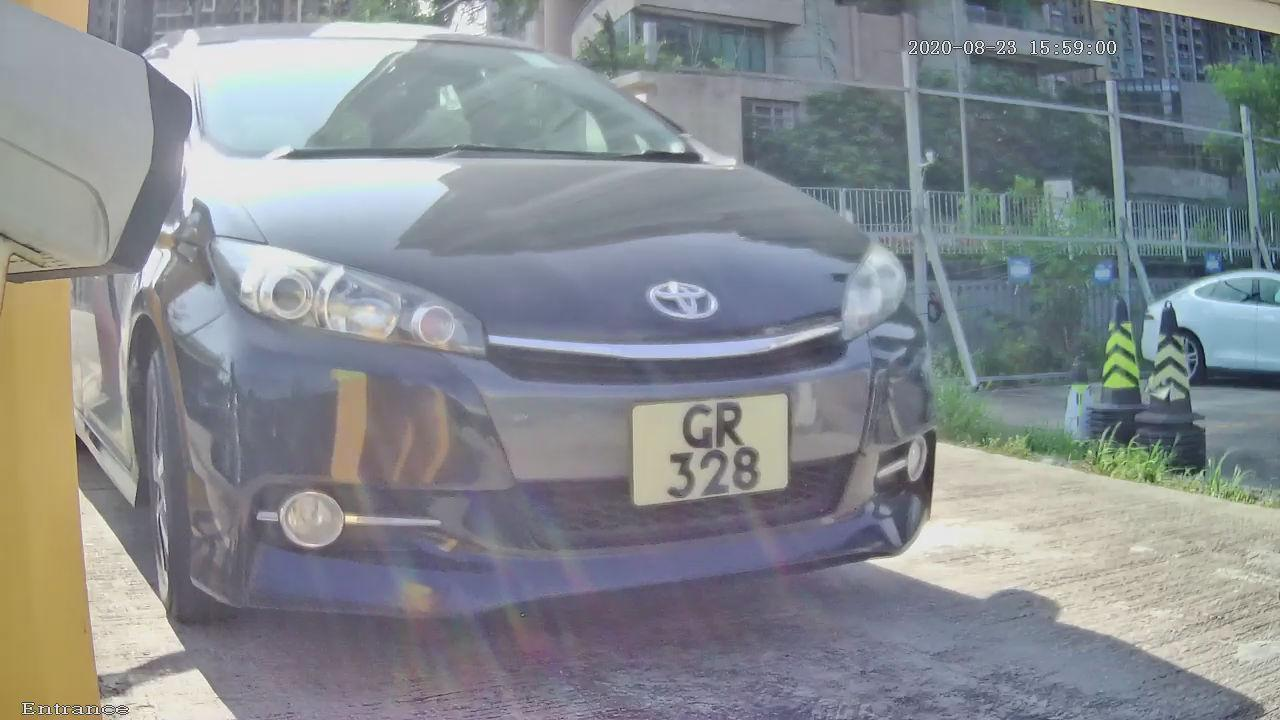Car: (29, 4, 1012, 704)
License Plate: (612, 377, 806, 521)
